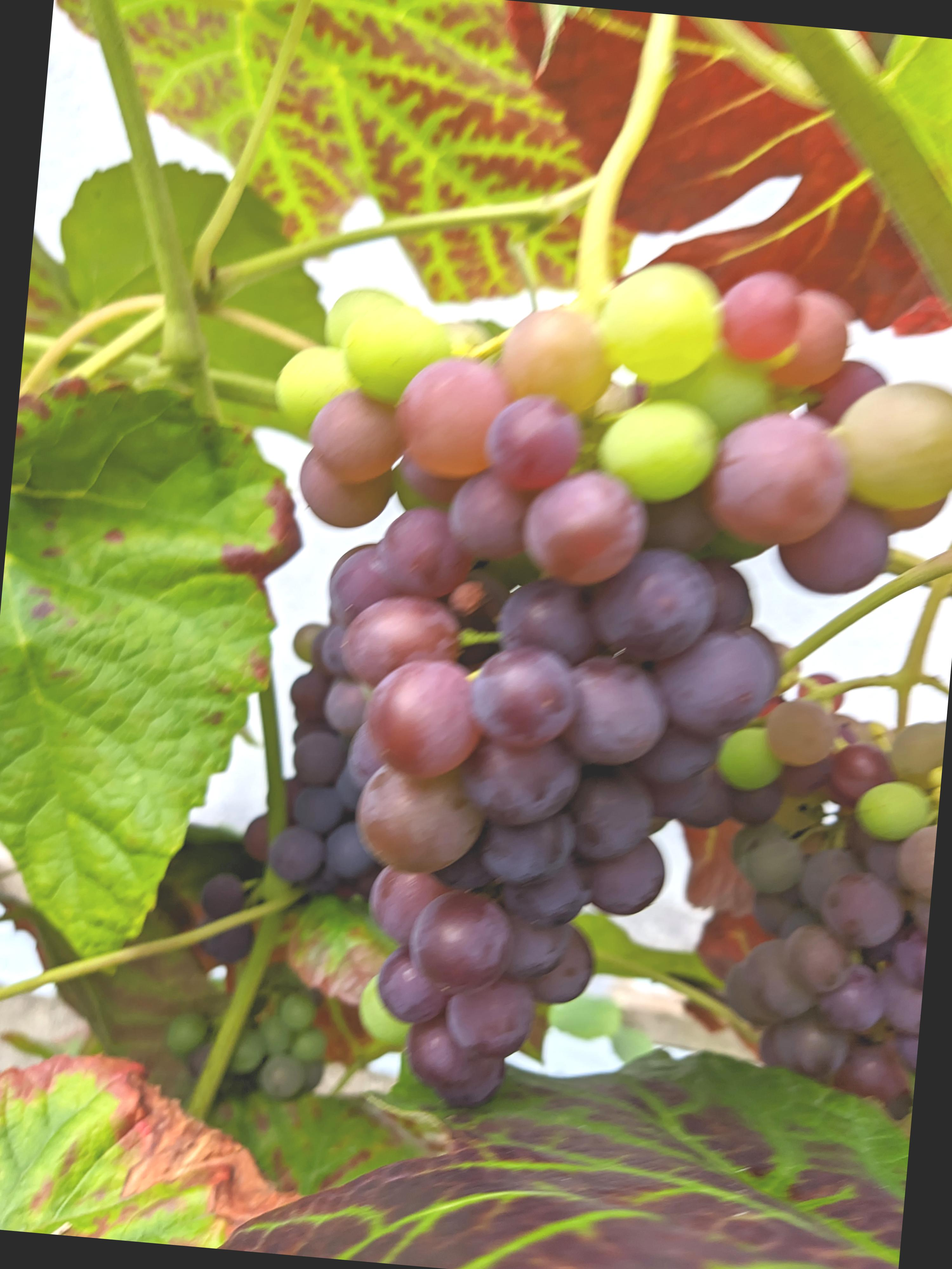Grape Unripe: (250, 190, 952, 1111), (738, 662, 952, 1080), (218, 834, 393, 1064)
